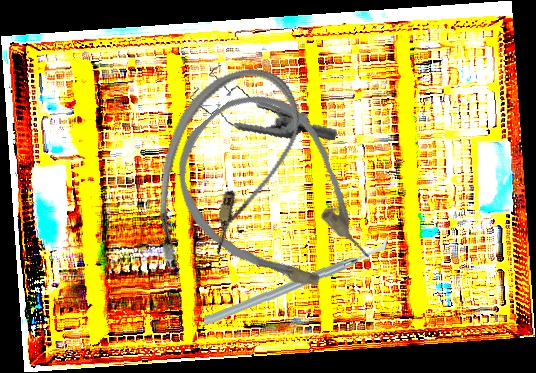Cannula: (148, 69, 401, 329), (134, 50, 313, 294)
Chopper: (204, 230, 388, 330)
Speculum: (184, 45, 338, 166)
